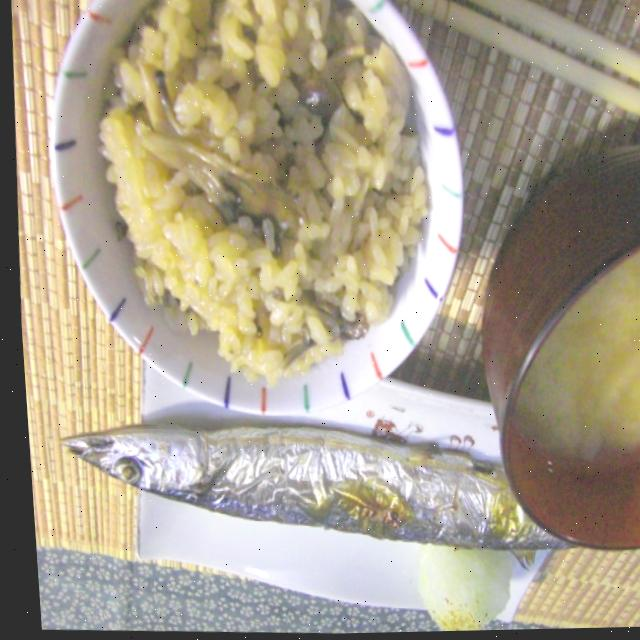汤锅炖物: (462, 128, 640, 569)
熟制海鲜: (36, 359, 564, 640)
米饭主食: (27, 0, 479, 431)
